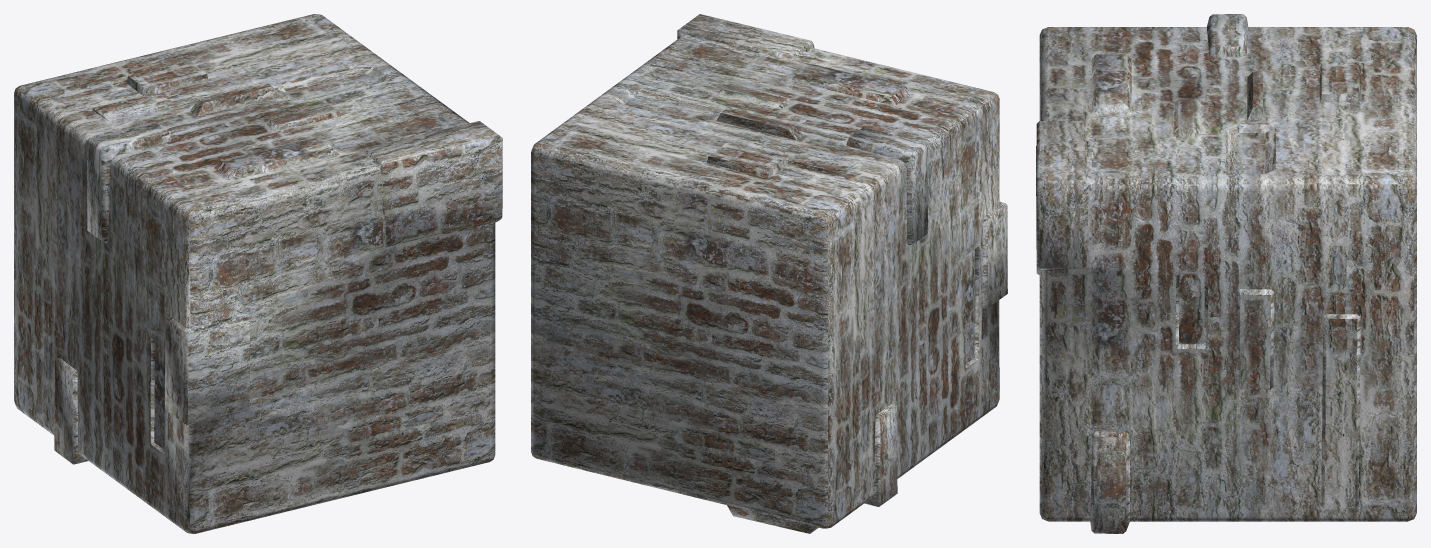
The model's file is MONDAYBLOCKa.fbx.
The picture shows the model from 3 angles, left to right: view 1: azimuth 30°, elevation 25°; view 2: azimuth 150°, elevation 25°; view 3: azimuth 270°, elevation 25°; orthographic projection. The views are drawn at different scales.
Visible parts, largest first — view 1: dungeonblockdeatiled; view 2: dungeonblockdeatiled; view 3: dungeonblockdeatiled.
Boxes of the visible parts, bbox=[...] form: dungeonblockdeatiled: bbox=[14, 14, 502, 533]; dungeonblockdeatiled: bbox=[531, 14, 1007, 533]; dungeonblockdeatiled: bbox=[1036, 14, 1416, 533].
Size of the model in its own units: 436 by 451 by 424.
